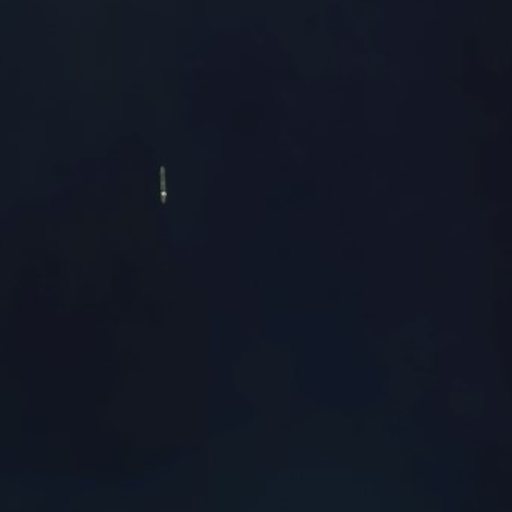ship: (156, 161, 170, 208)
